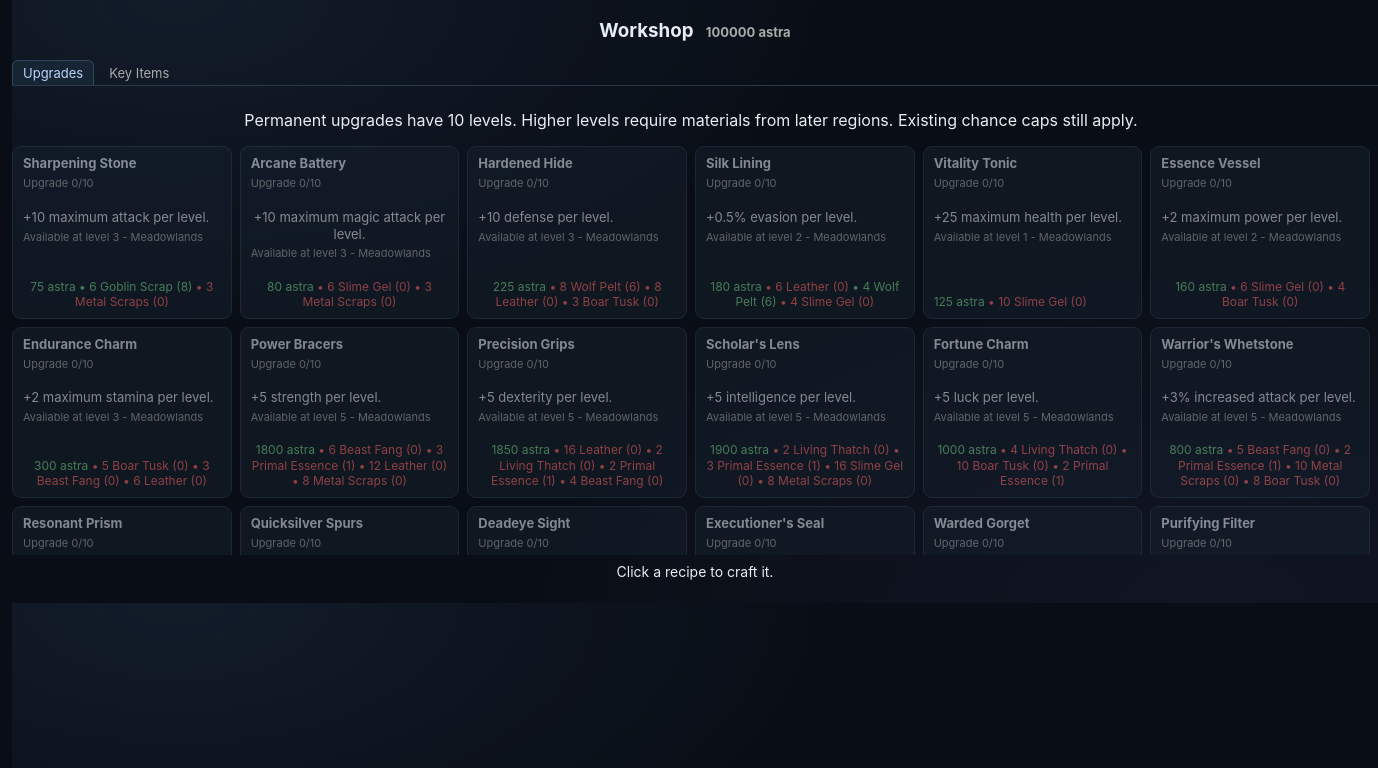
Scenario: key items can be crafted from their tab and remain owned after switching tabs
Click the tab "Key Items". click: x=139, y=73
box: [98,60,180,85]
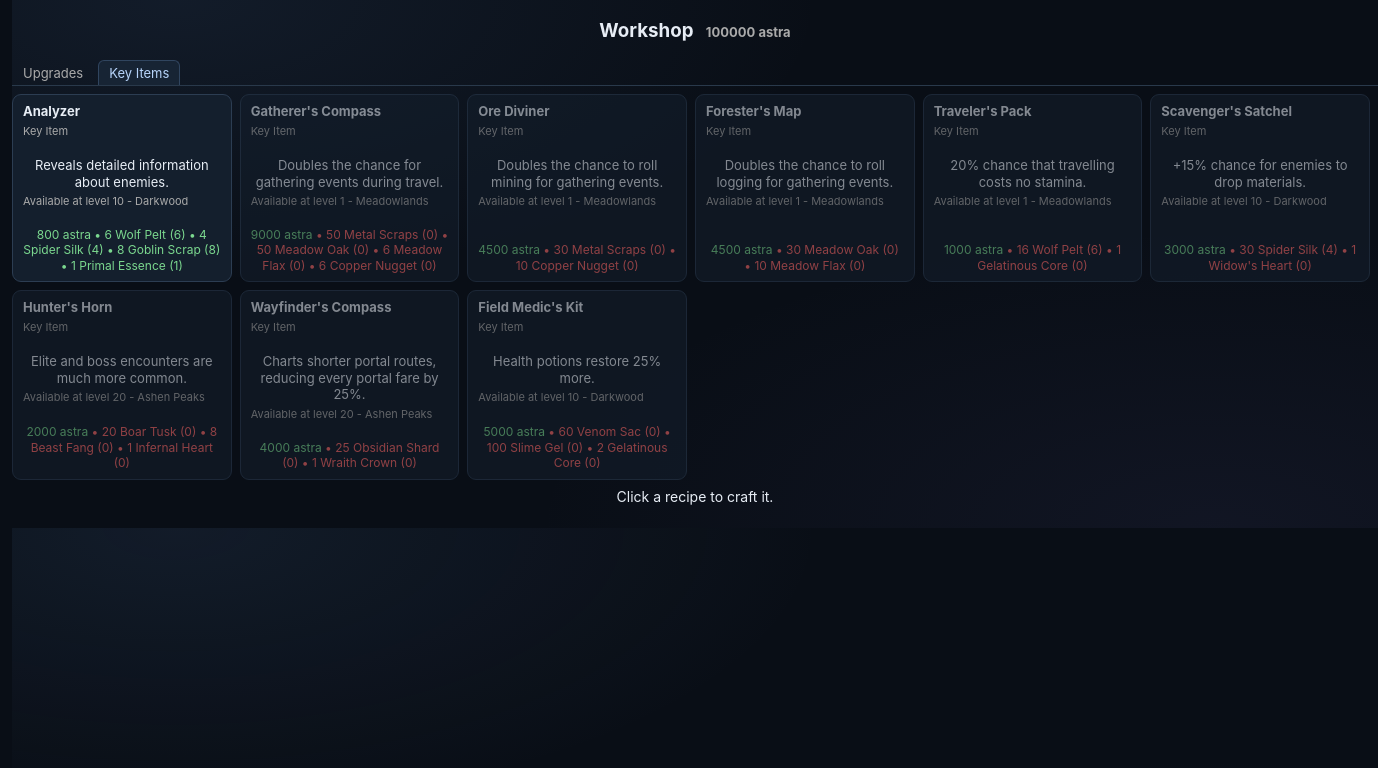
Click the button "Analyzer". click: x=122, y=188
box: [12,94,232,282]
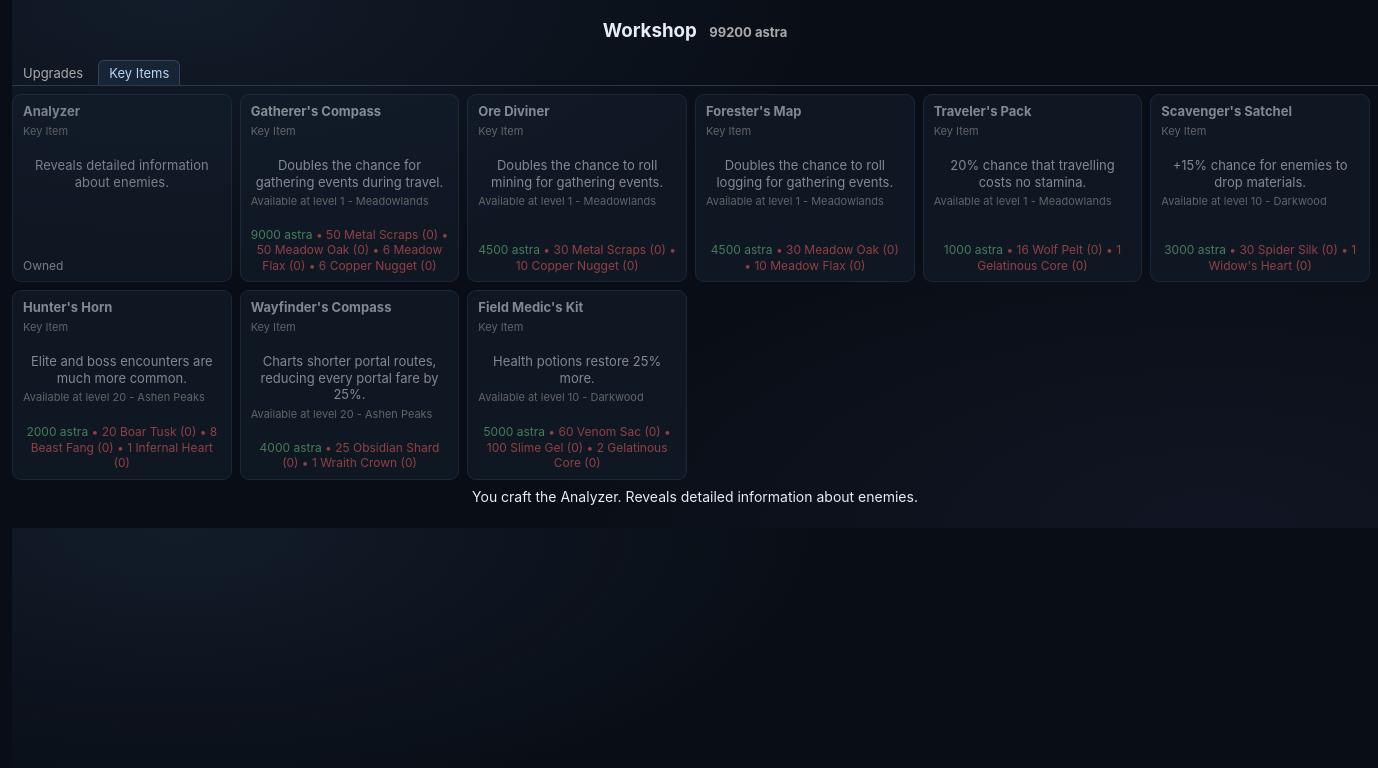
Click the tab "Upgrades". click: x=53, y=73
box: [12,60,94,85]
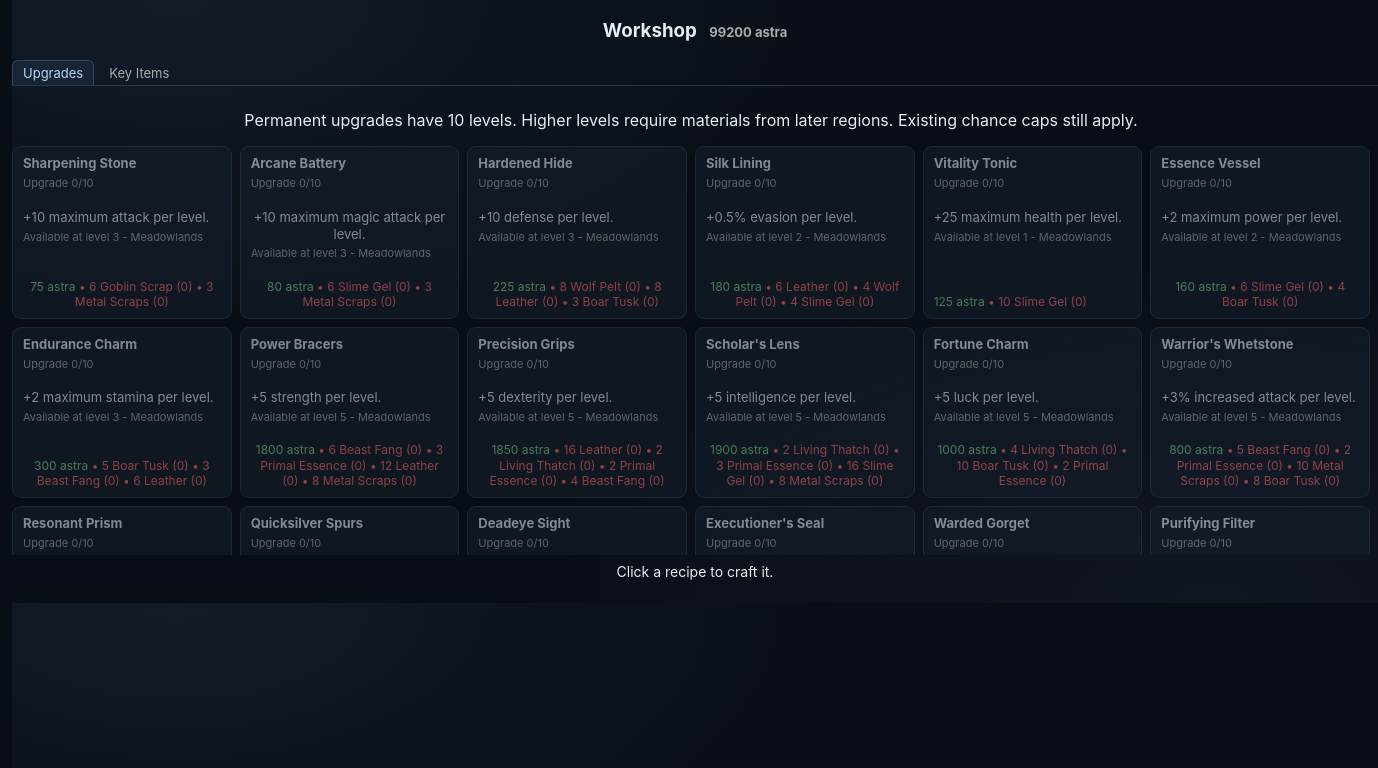
Click the tab "Key Items". click: x=139, y=73
box: [98,60,180,85]
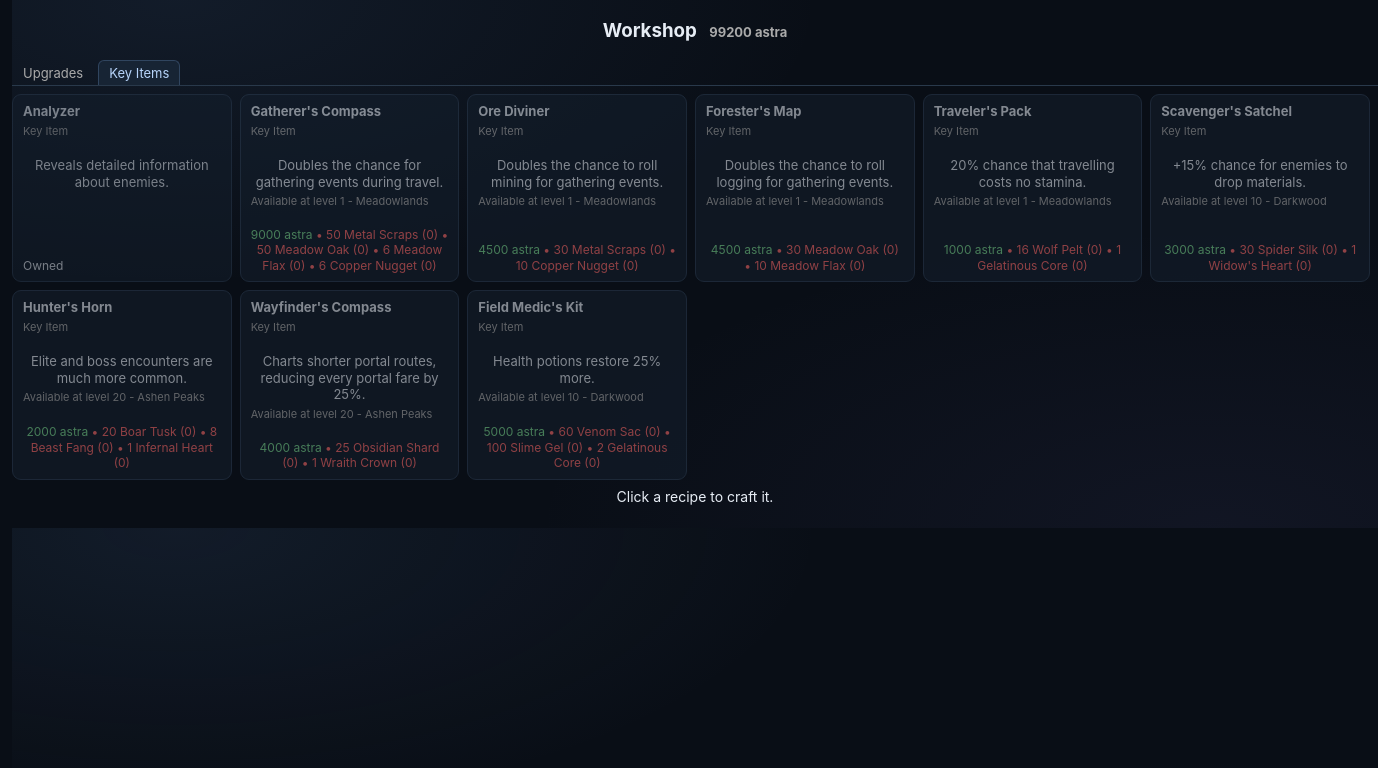
Expected: the button "Analyzer" is disabled, [12,94,232,282]
Expected: the text "Owned" is shown, [23,258,63,274]
